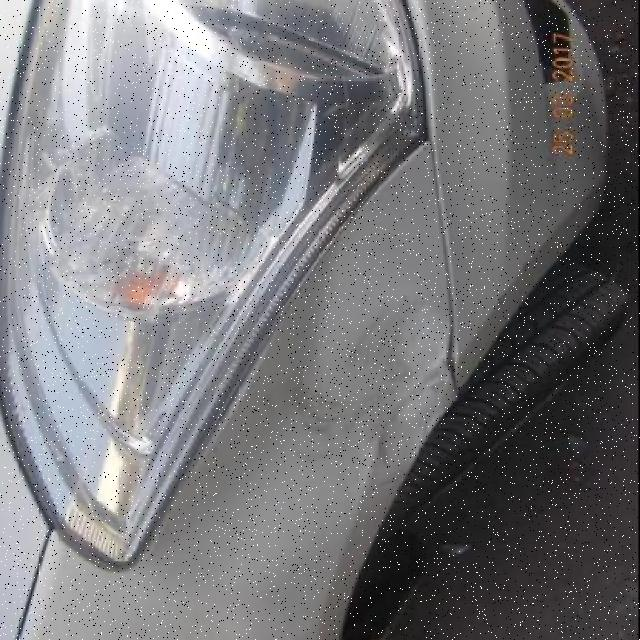damage: (267, 291, 452, 465)
